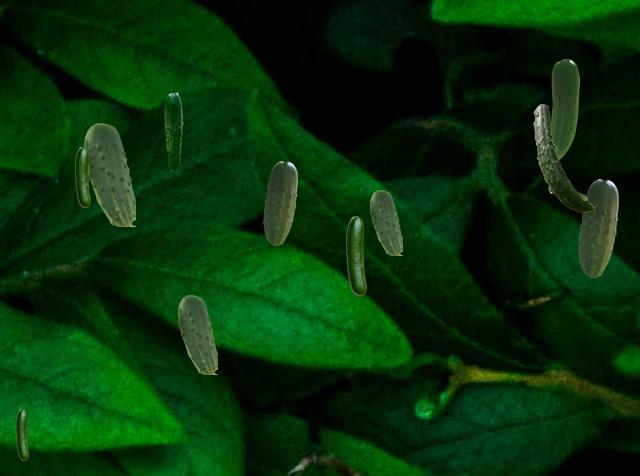cucumber: (533, 104, 593, 211), (84, 123, 134, 225), (578, 179, 617, 276), (178, 295, 216, 373), (263, 161, 296, 244), (551, 59, 578, 159), (370, 190, 401, 254), (346, 216, 365, 294), (164, 92, 182, 170), (75, 147, 89, 206), (16, 409, 27, 459)
